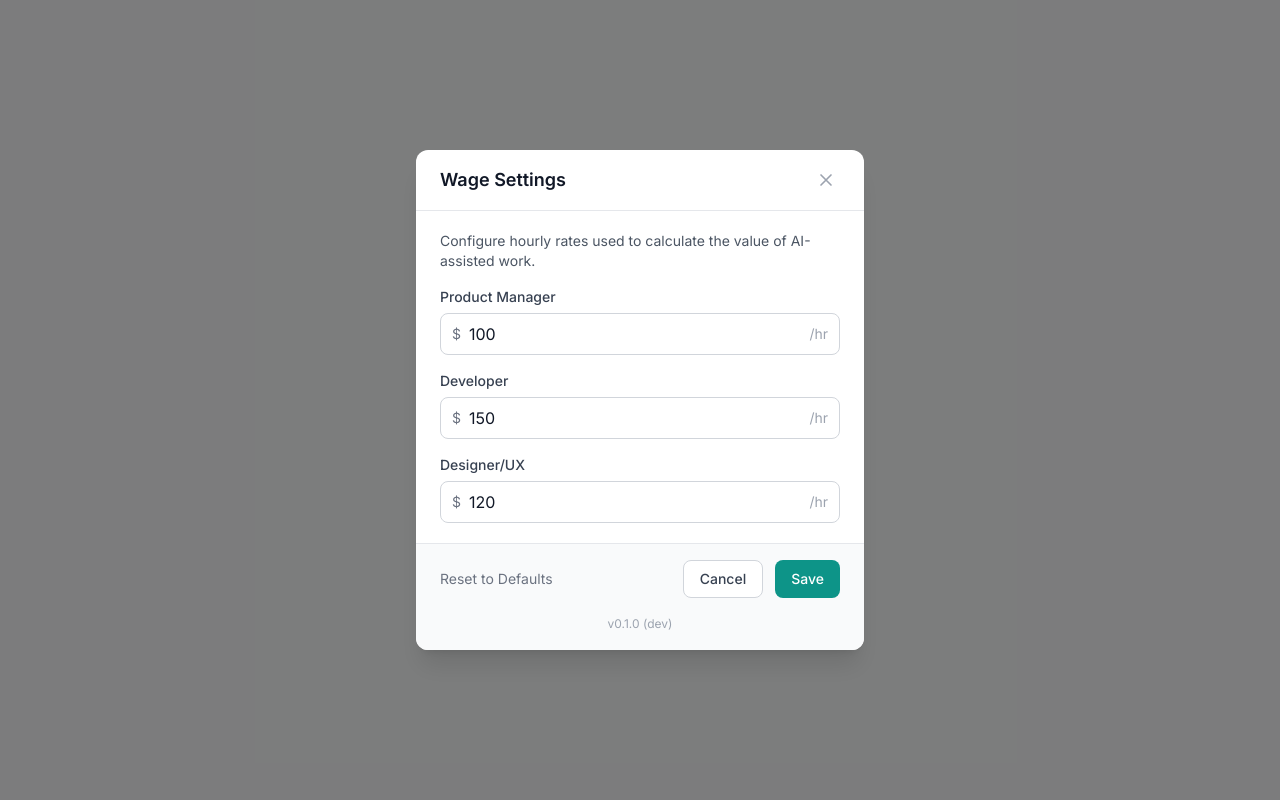
Test: WageSettingsModal › reset functionality › resets all values to defaults when Reset is clicked
Step 1. Click the button "Reset to Defaults" → (496, 579), box x1=440 y1=569 x2=553 y2=589
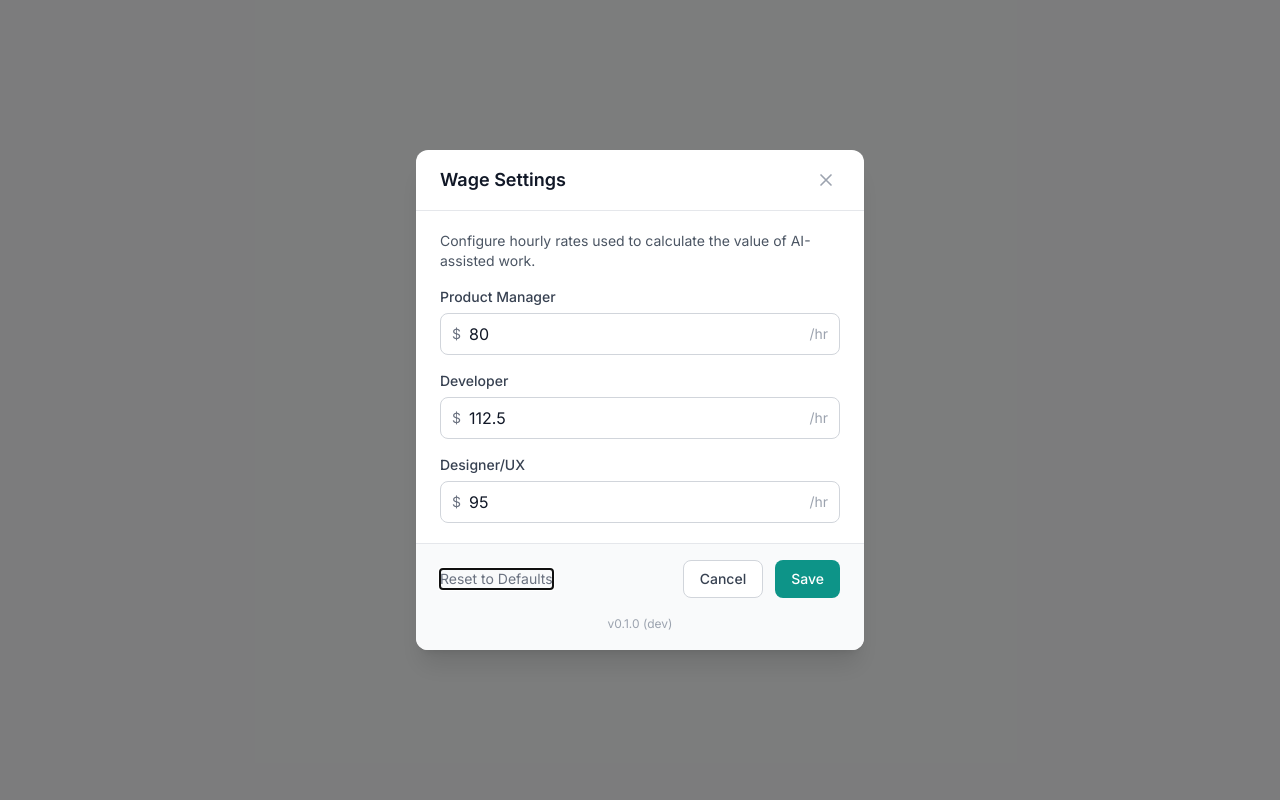
Result: the number field labelled "Product Manager" holds "80" at x1=440 y1=313 x2=840 y2=355
Result: the number field labelled "Developer" holds "112.5" at x1=440 y1=397 x2=840 y2=439
Result: the number field labelled "Designer/UX" holds "95" at x1=440 y1=481 x2=840 y2=523
